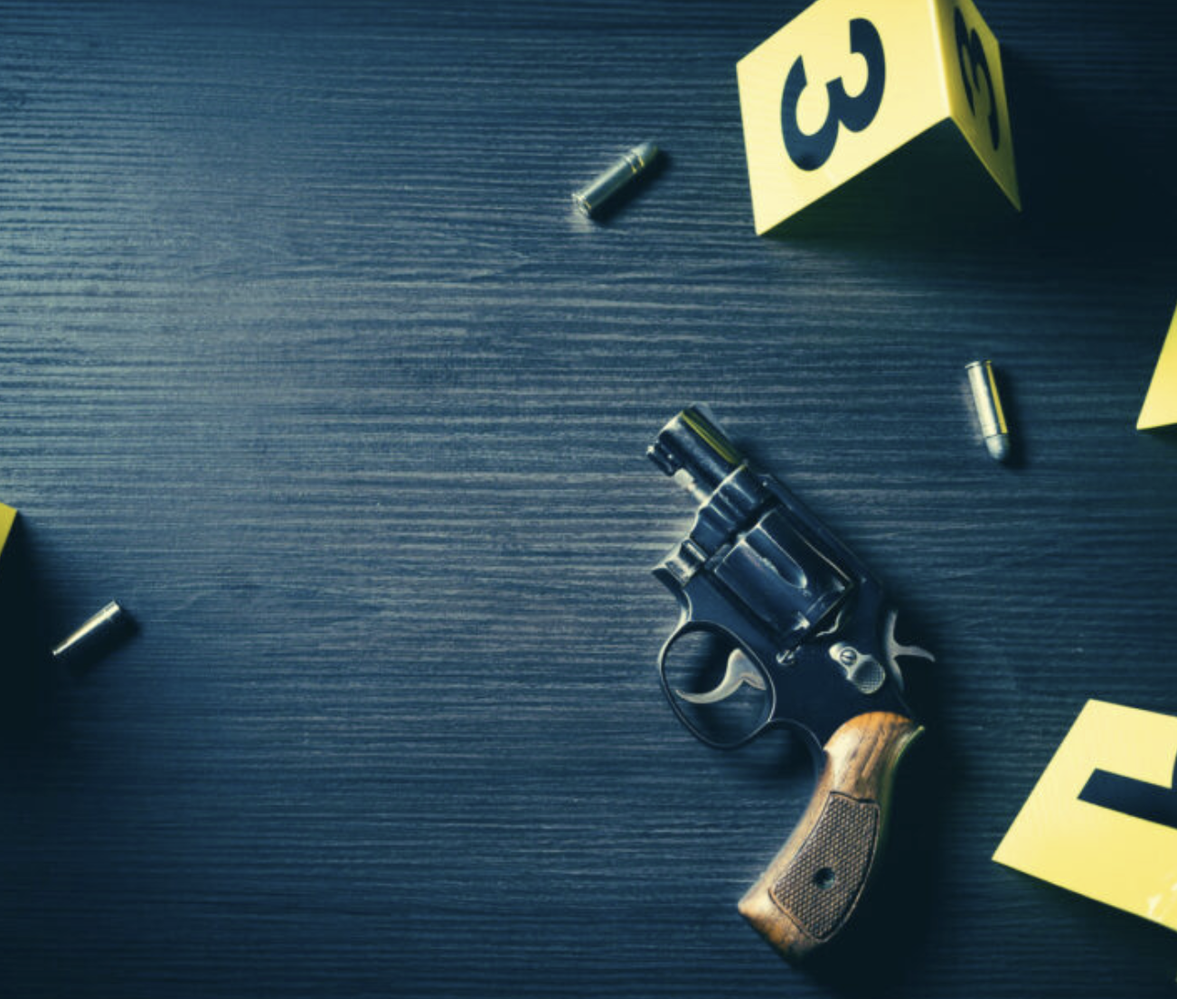gun_024: (615, 392, 948, 971)
